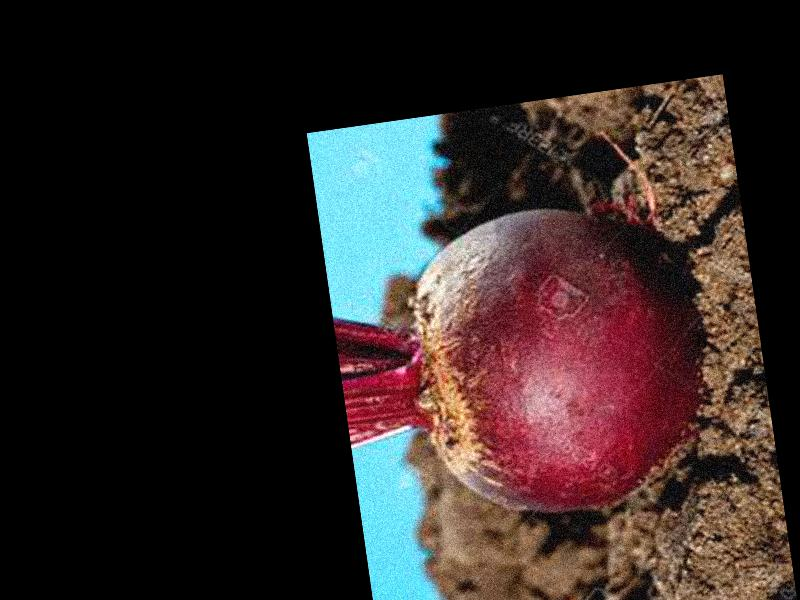Beet: (324, 187, 719, 539)
